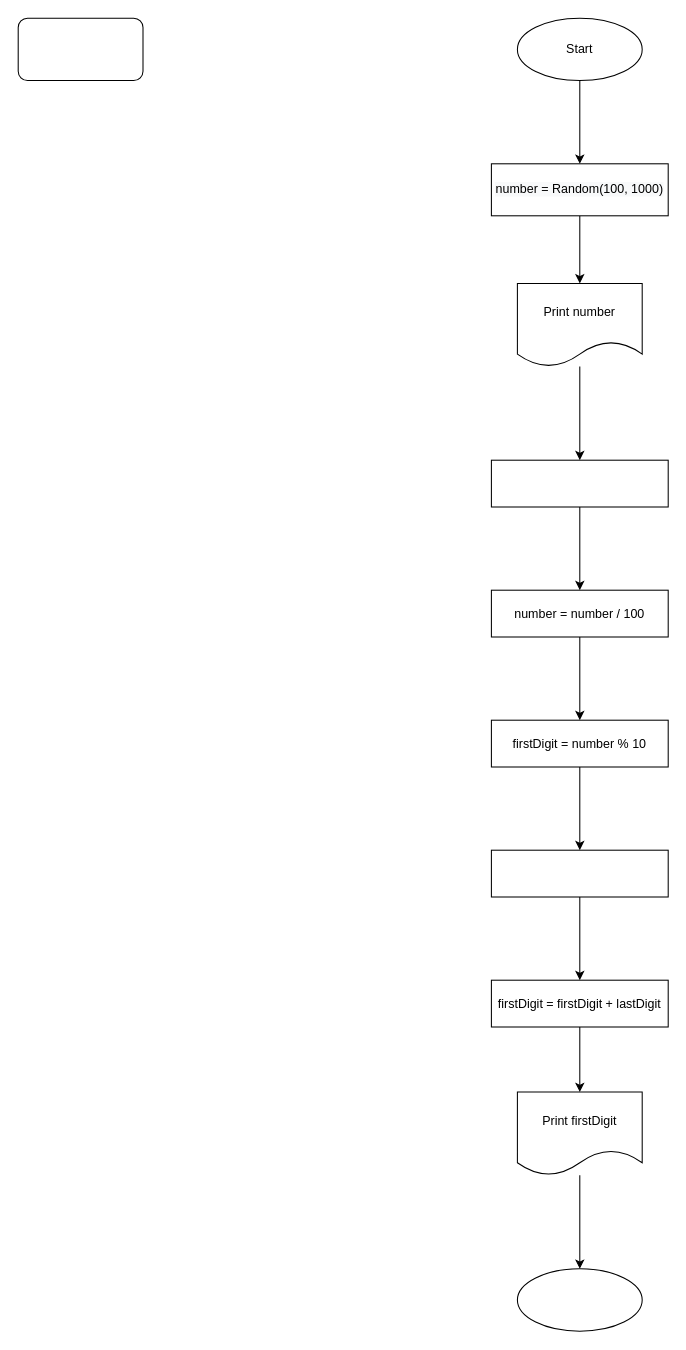
Some shapes in this 686 by 1350 pixel diagram are drawn without their labels. The box of each missing label's shape, as (x1, y1, x2, y2) in pixels:
End: (516, 1268, 642, 1331)
firstDigit = firstDigit * 10: (490, 849, 668, 897)
lastDigit = number % 10: (490, 459, 668, 507)
Удалить вторую цифру трёхзначного числа: (17, 17, 143, 81)
